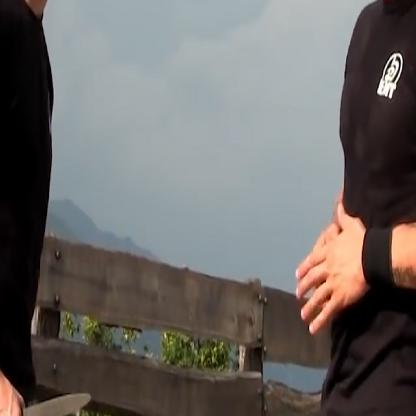knife: (0, 378, 100, 415)
